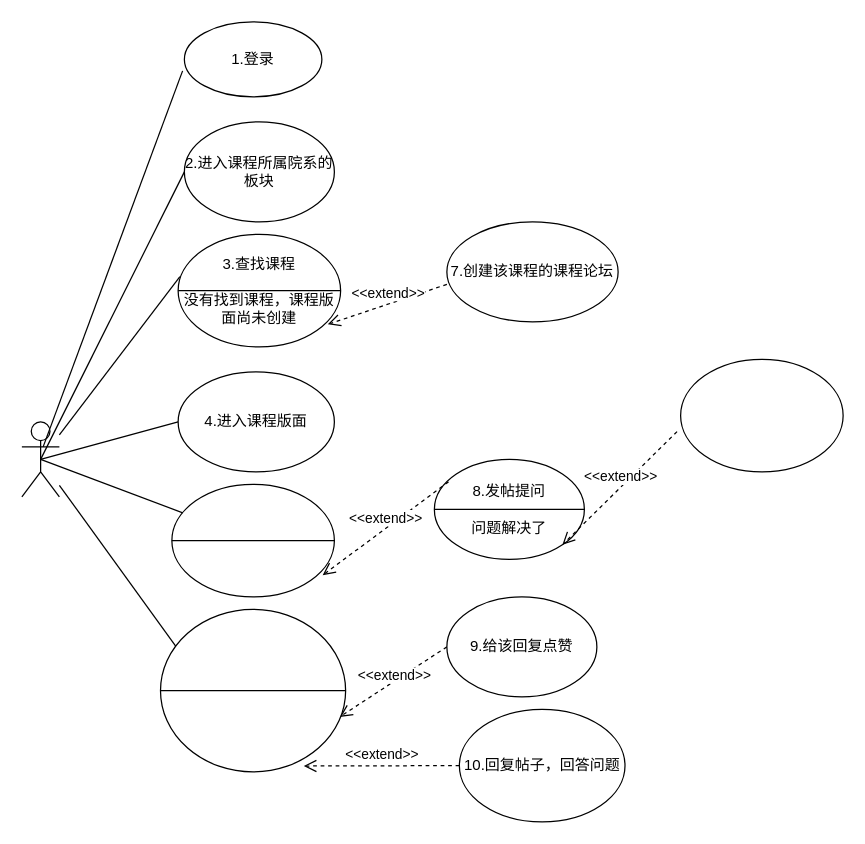
Some shapes in this 865 by 844 pixel diagram are drawn without their labels. Each missing label, with the centre of its shape:
"11.将自己的提问（帖子）标记为“已解决”" belongs at [761,415].
"5.搜索问题 没有搜索自己遇到的问题" belongs at [252,540].
"6.查看帖子和回帖 扩展点1：回帖解决了自己的疑问 扩展点2：遇到了自己可以解答的问题" belongs at [252,690].
"user" belongs at [40,459].
